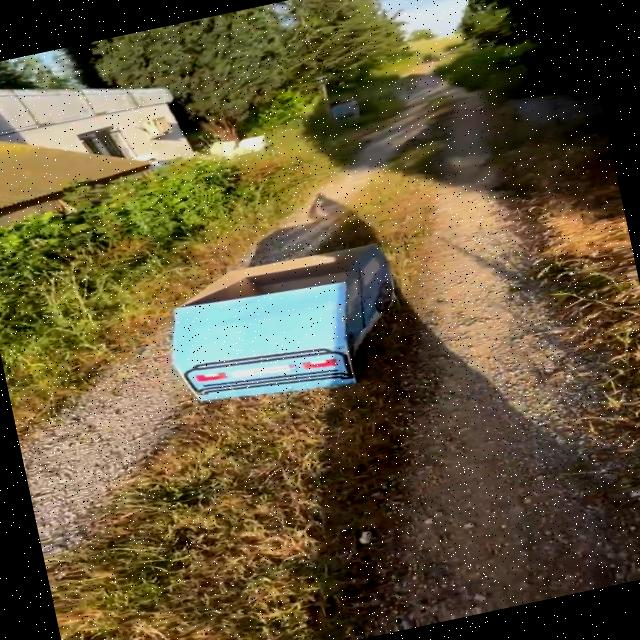blue_car: (107, 196, 458, 451)
